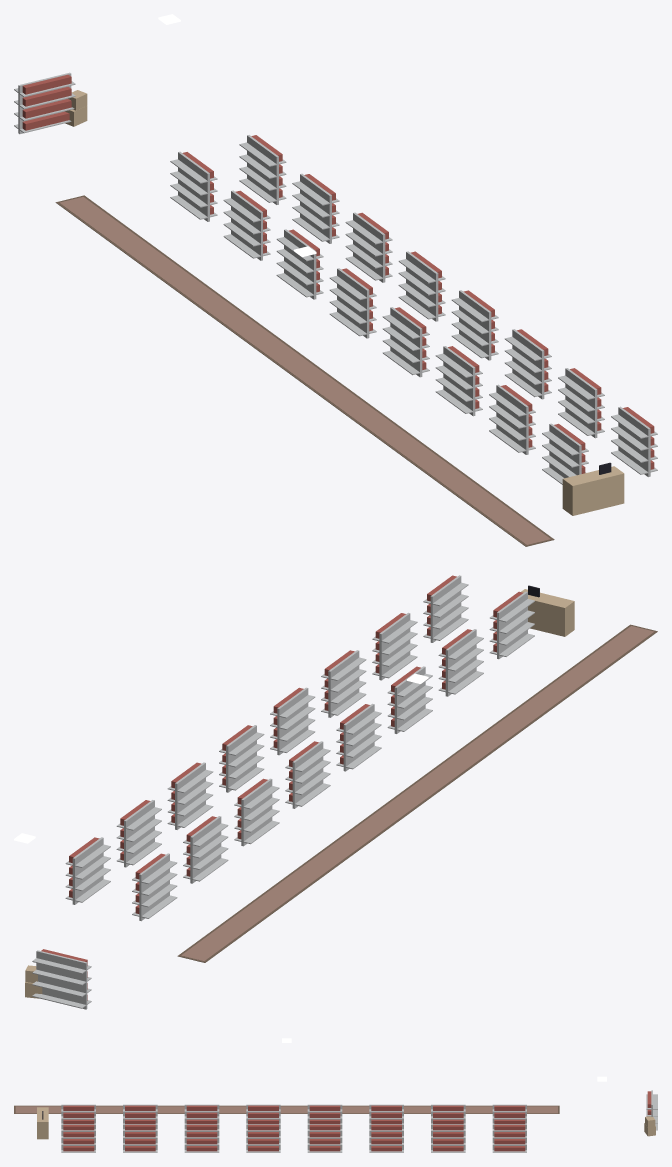
Rendered from fine-s0.glb.
The picture shows the model from 3 angles, top to bottom: view 1: azimuth 30°, elevation 25°; view 2: azimuth 150°, elevation 25°; view 3: azimuth 270°, elevation 25°; orthographic projection. The views are drawn at different scales.
Parts seen in each view (by area): view 1: soft-s0, shelving.000, shop-counter.000, shelf.006, shelf.005, shelf.004, shelf.015, shelf.014, shelf.013, shelf.010, shelf.001, shelf.003 (+7 smaller); view 2: soft-s0, shelving.000, shelf.001, shelf.014, shelf.002, shelf.012, shelf.013, shelf.003, shelf.008, shelf.004, shelf.006, shelf.010 (+7 smaller); view 3: soft-s0, shelf.011, shelf.013, shelf.008, shelf.009, shelf.010, shelf.012, shelf.014, shelf.015, shelf.003, shelf.005, shelf.001 (+8 smaller).
Part boxes in pixels (x1,y1,x2,y2): soft-s0: (55, 195, 554, 546); shelving.000: (14, 72, 75, 134); shop-counter.000: (562, 462, 624, 515); shelf.006: (489, 384, 535, 454); shelf.005: (435, 346, 482, 416); shelf.004: (382, 307, 429, 377); shelf.015: (611, 406, 657, 476); shelf.014: (558, 368, 604, 438); shelf.013: (504, 329, 551, 399); shelf.010: (345, 212, 392, 282); shelf.001: (223, 190, 270, 260); shelf.003: (329, 268, 376, 338); soft-s0: (177, 624, 657, 962); shelving.000: (32, 949, 91, 1009); shelf.001: (183, 816, 228, 883); shelf.014: (372, 612, 417, 680); shelf.002: (234, 778, 279, 846); shelf.012: (270, 687, 315, 755); shelf.013: (321, 650, 366, 717); shelf.003: (285, 741, 330, 808); shelf.008: (65, 837, 110, 904); shelf.004: (336, 703, 381, 771); shelf.006: (438, 629, 483, 696); shelf.010: (167, 762, 213, 829); soft-s0: (14, 1105, 559, 1113); shelf.011: (307, 1124, 342, 1152); shelf.013: (184, 1124, 219, 1152); shelf.008: (492, 1124, 526, 1152); shelf.009: (431, 1124, 465, 1152); shelf.010: (369, 1124, 403, 1152); shelf.012: (246, 1124, 280, 1152); shelf.014: (123, 1124, 157, 1152); shelf.015: (61, 1124, 95, 1152); shelf.003: (307, 1104, 342, 1124); shelf.005: (184, 1104, 219, 1124); shelf.001: (431, 1104, 465, 1124).
Size of the model in its own units: 6.02 by 4 by 33.47.
